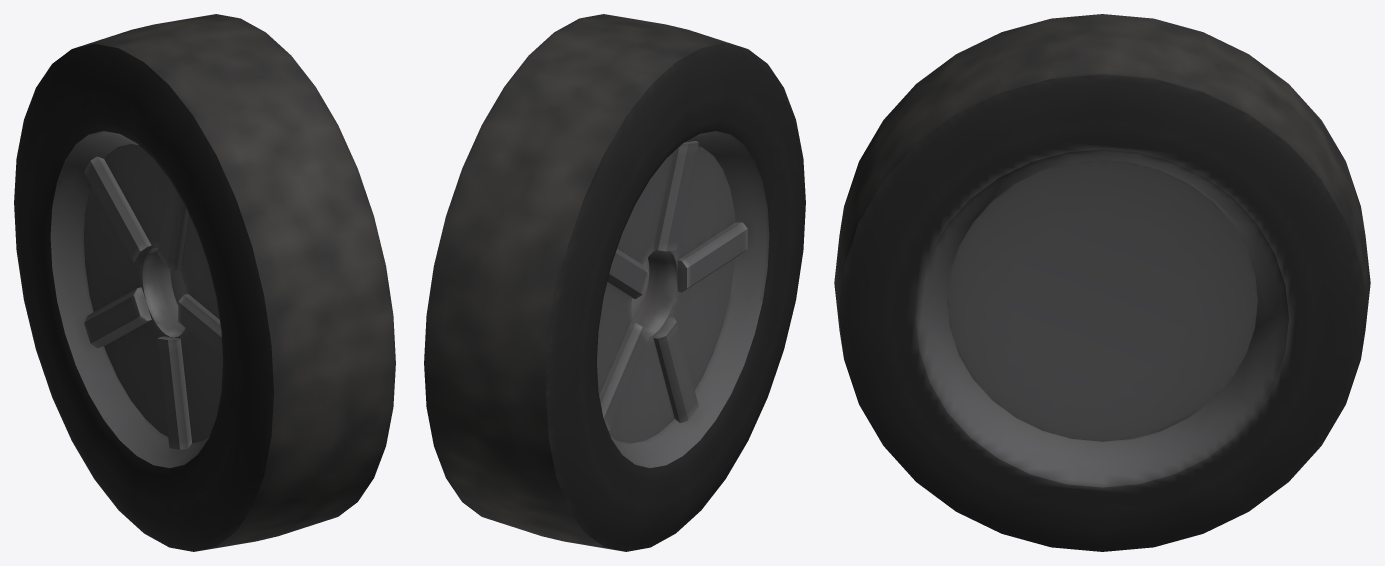
The model's file is CarWheel.fbx.
3 renders of one model, left to right at view 1: azimuth 30°, elevation 25°; view 2: azimuth 150°, elevation 25°; view 3: azimuth 270°, elevation 25°, orthographic.
Parts seen in each view (by area): view 1: CarWheel_LOD0; view 2: CarWheel_LOD0; view 3: CarWheel_LOD0.
Boxes of the visible parts, <box> form: CarWheel_LOD0: <box>14,14,395,551</box>; CarWheel_LOD0: <box>424,14,805,551</box>; CarWheel_LOD0: <box>834,14,1370,551</box>.
Size of what is drawn, in the model's own units: 0.216 by 0.69 by 0.69.
Materials: 1 (1 with a texture image).
